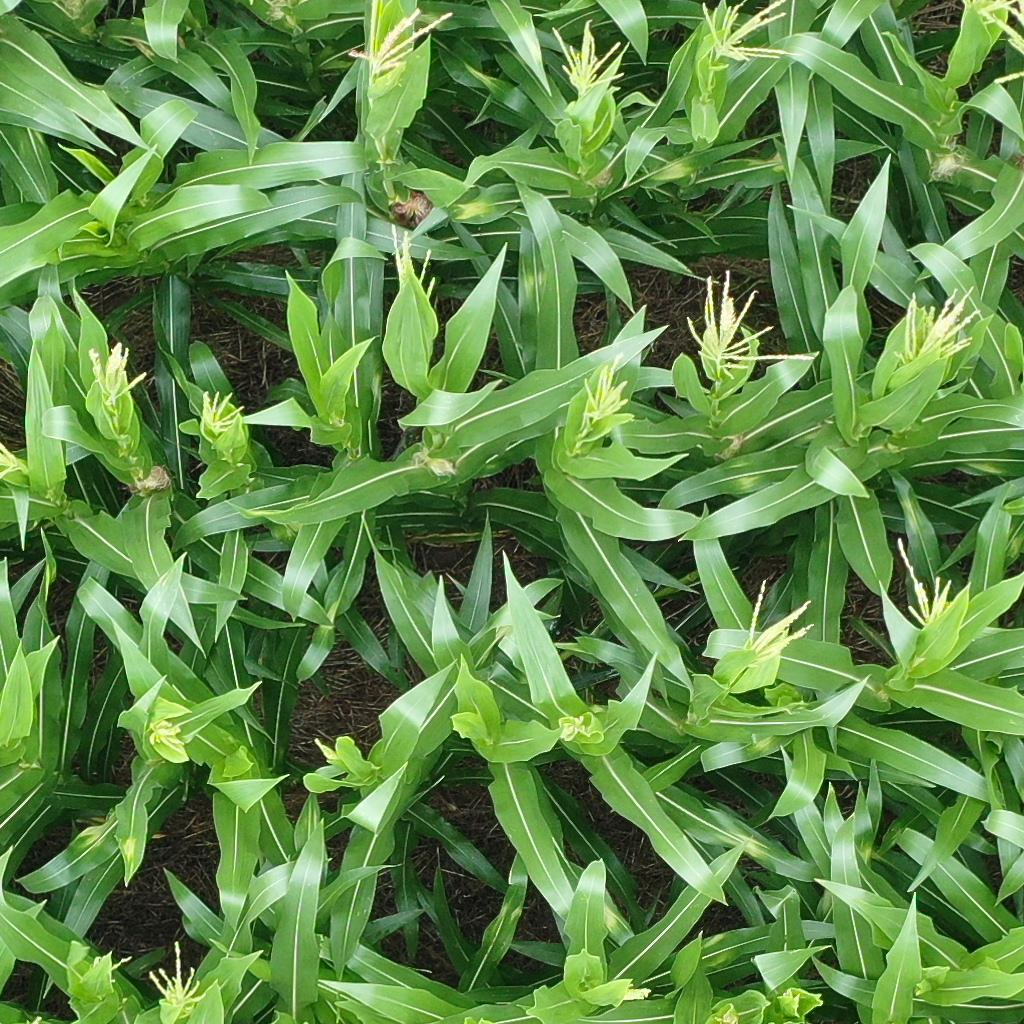Tassel: (683, 267, 819, 386), (901, 280, 987, 376), (890, 535, 962, 640), (548, 15, 622, 116), (343, 7, 454, 73), (684, 1, 789, 69), (734, 572, 815, 657), (575, 347, 636, 453), (383, 217, 437, 315), (86, 333, 152, 411), (964, 1, 1024, 85), (144, 937, 206, 1014), (189, 385, 249, 444), (137, 709, 185, 752), (602, 974, 657, 1010), (1, 436, 34, 491), (92, 943, 130, 985), (311, 732, 344, 767), (557, 719, 593, 746), (775, 985, 802, 1016)
